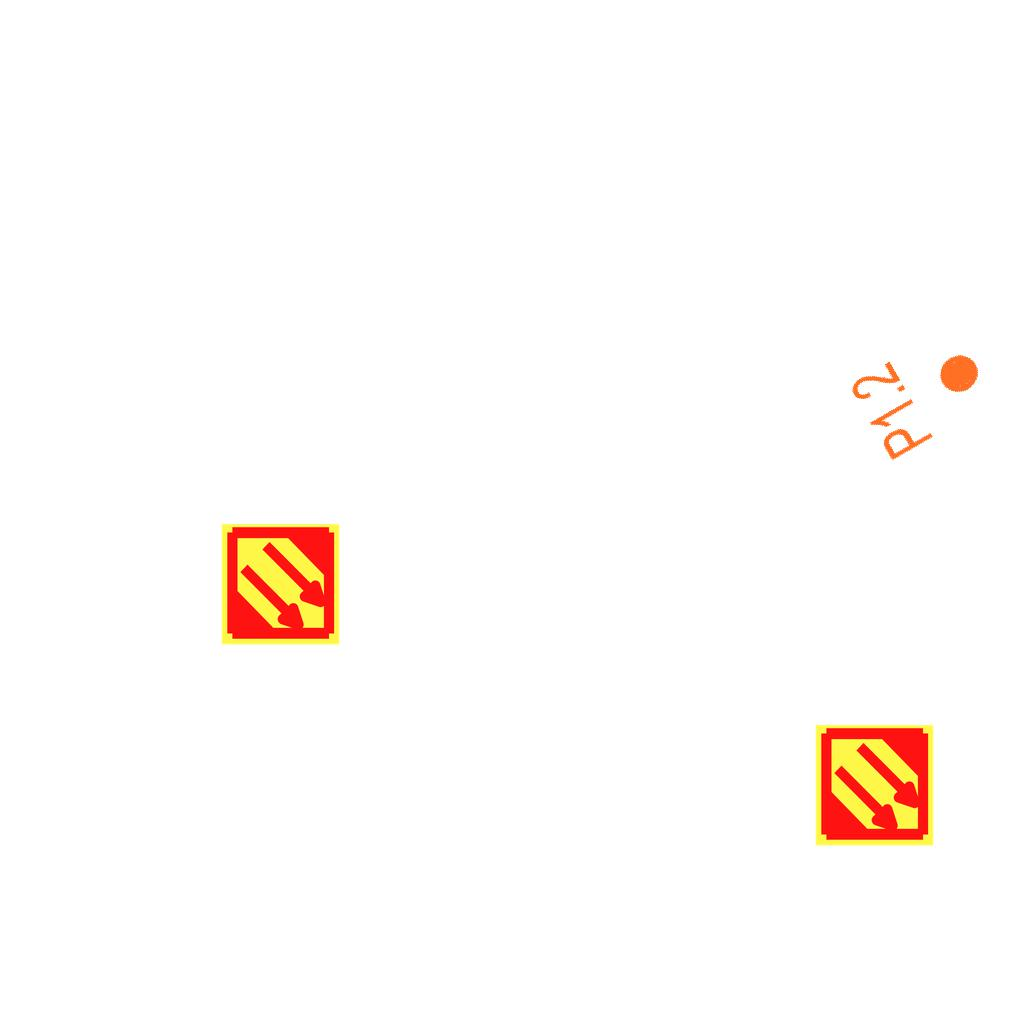ASR_Ansaugrauchmelder: (812, 723, 937, 848), (218, 522, 343, 647)
Downlight_LED_Einbauleuchten_Flur: (843, 320, 1002, 466)
